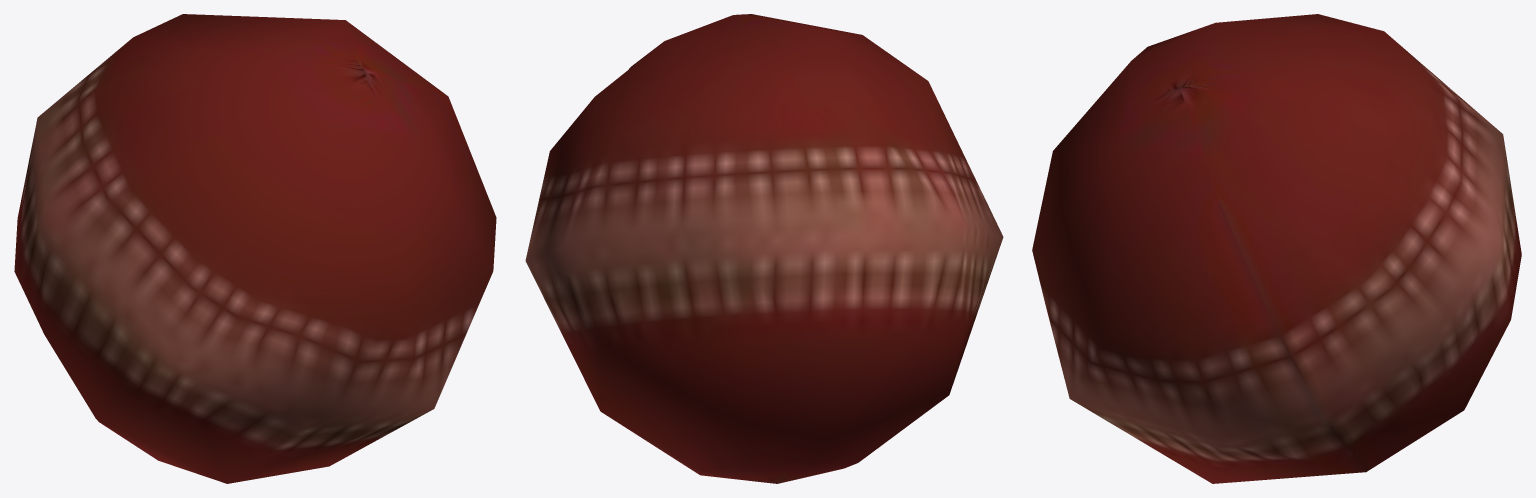
The model's file is cricket-ball.glb.
The picture shows the model from 3 angles, left to right: view 1: azimuth 30°, elevation 25°; view 2: azimuth 150°, elevation 25°; view 3: azimuth 270°, elevation 25°; orthographic projection. The views are drawn at different scales.
Visible parts, largest first — view 1: ball; view 2: ball; view 3: ball.
Part boxes in pixels (x1,y1,x2,y2): ball: [14, 14, 496, 483]; ball: [525, 14, 1003, 483]; ball: [1032, 14, 1521, 483].
Size of the model in its own units: 0.0702 by 0.0692 by 0.0709.
Materials: 1 (1 with a texture image).
